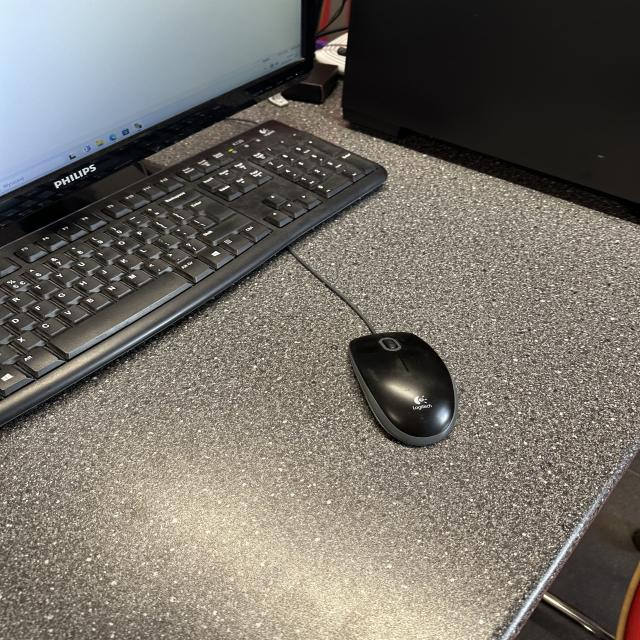mysz: (338, 327, 468, 453)
